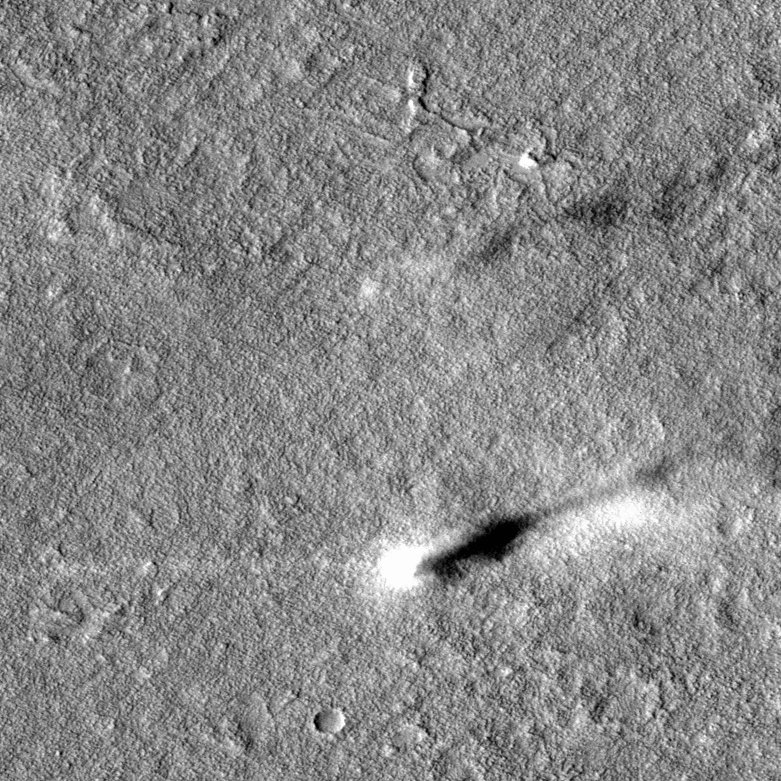dust_devil: (374, 435, 741, 594), (355, 188, 632, 303)
